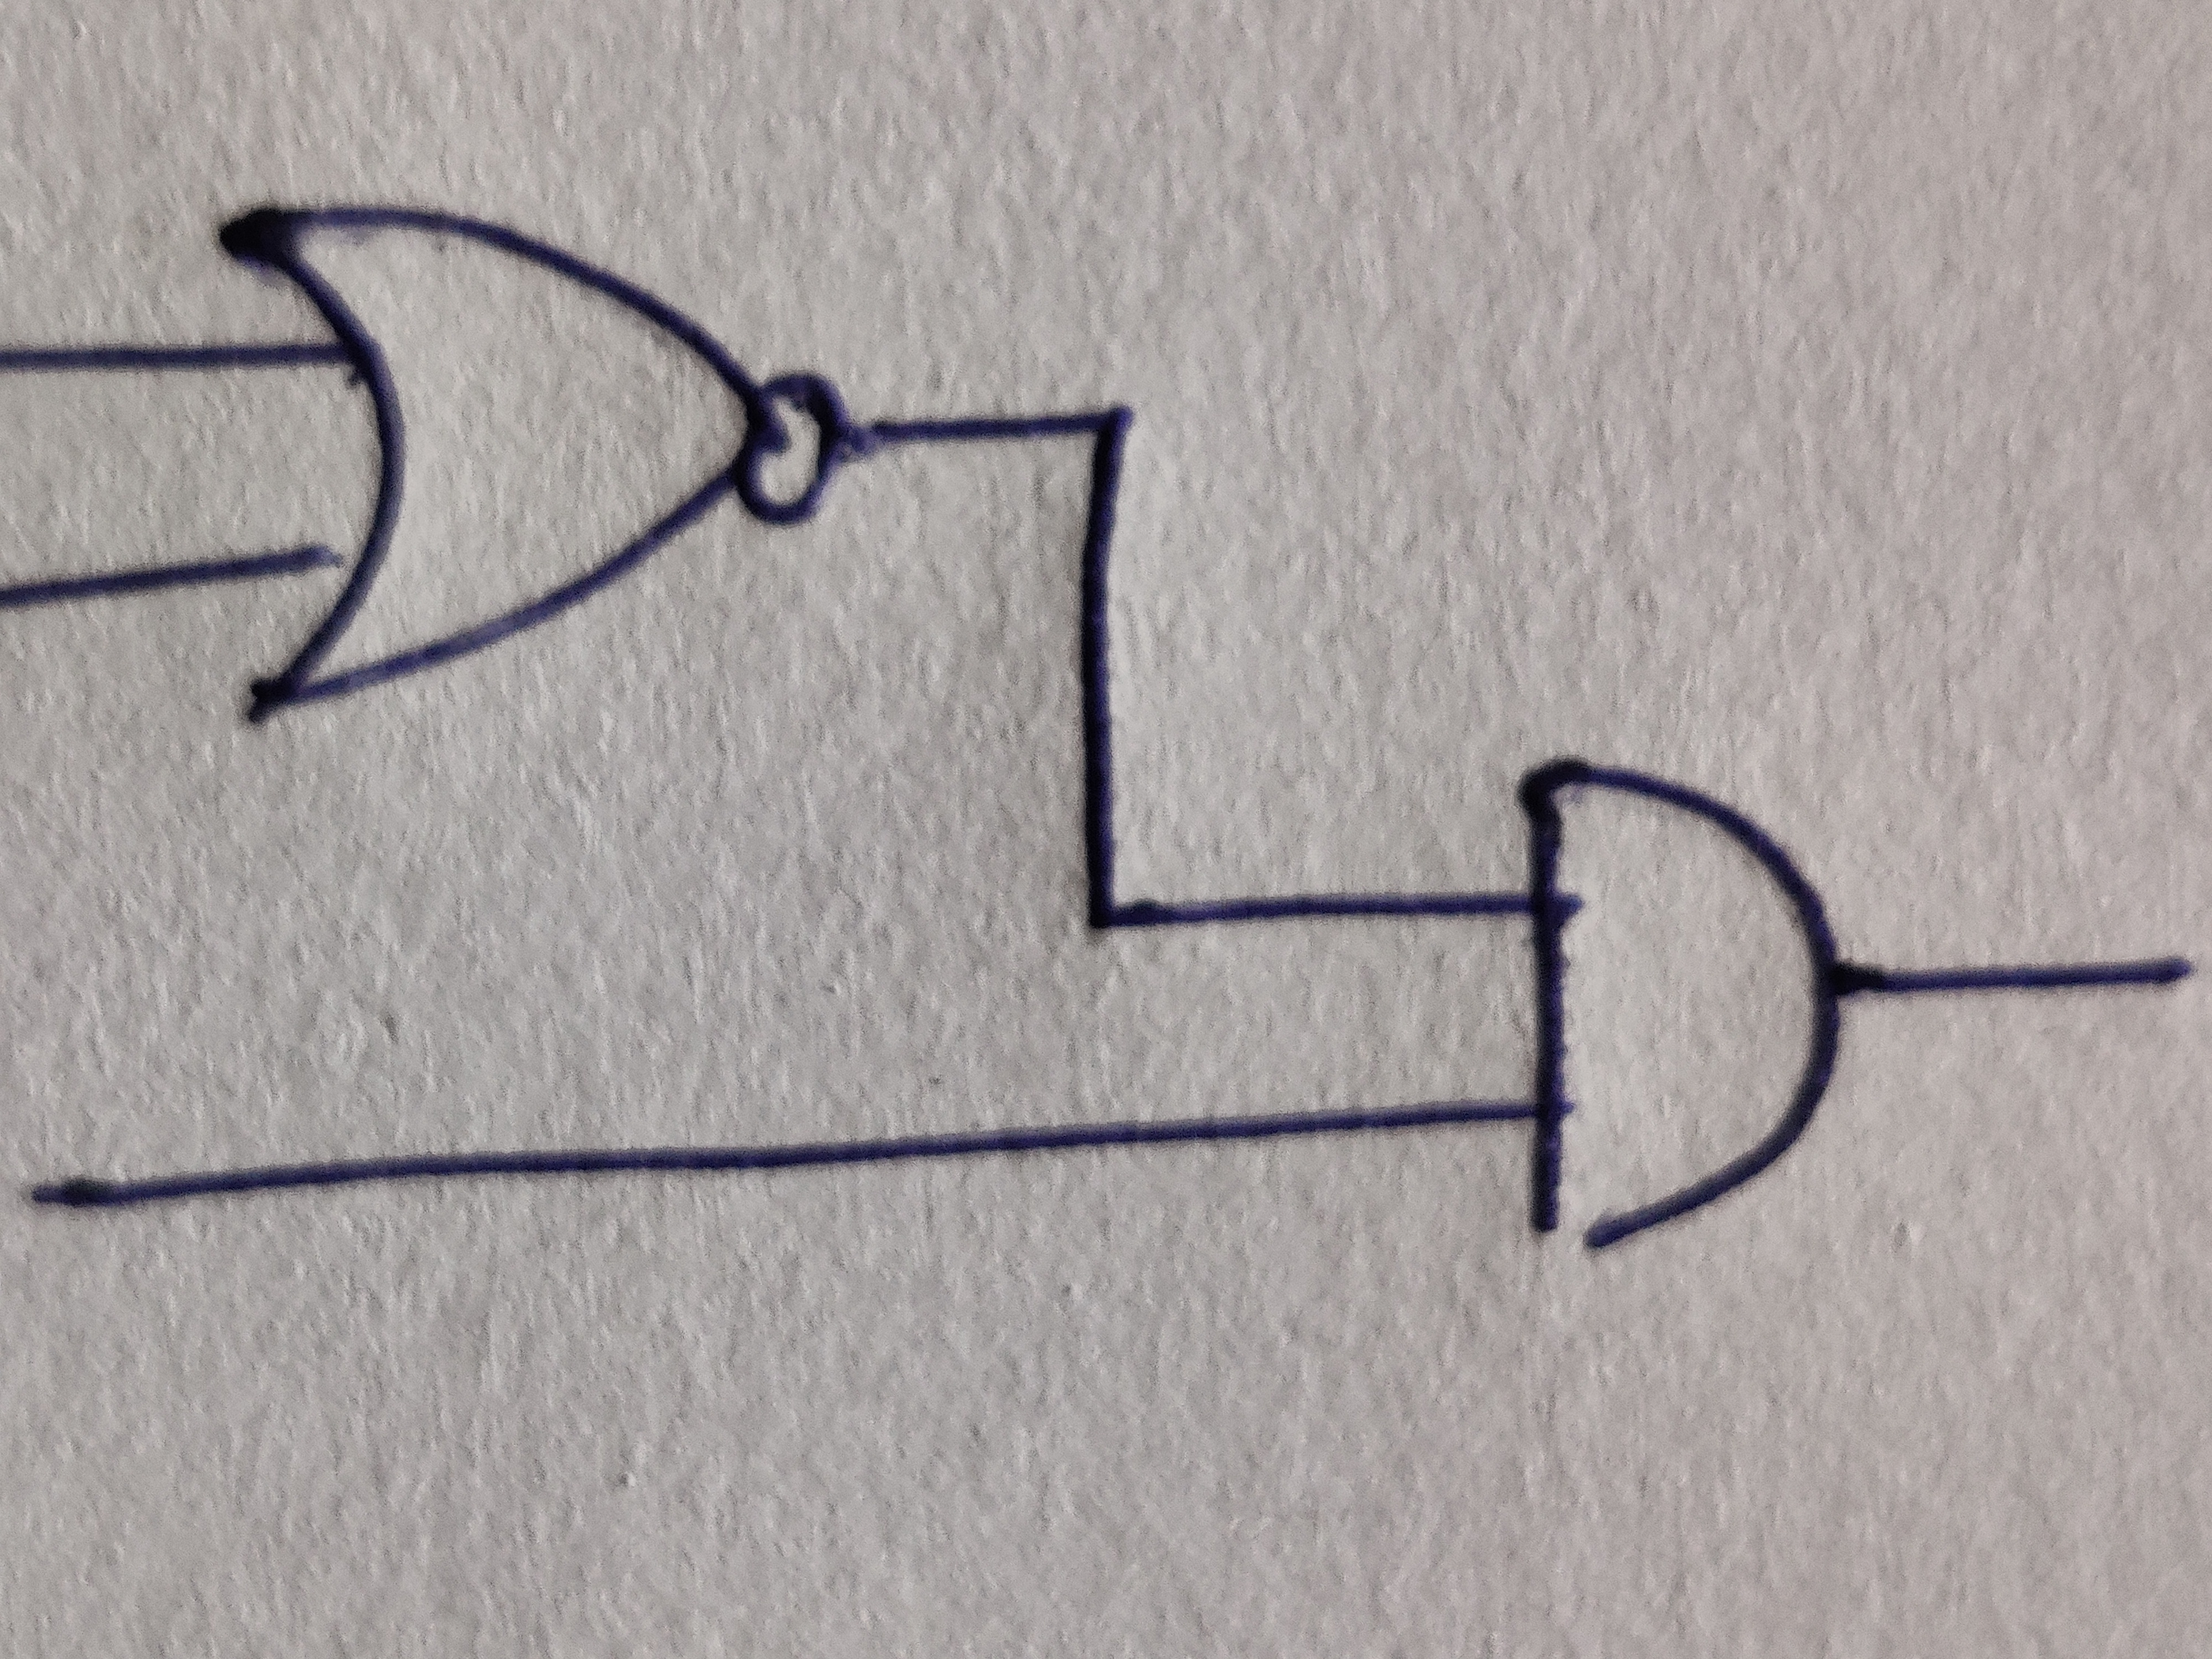and: (1515, 758, 1838, 1255)
not: (745, 375, 845, 521)
or: (219, 207, 789, 727)
